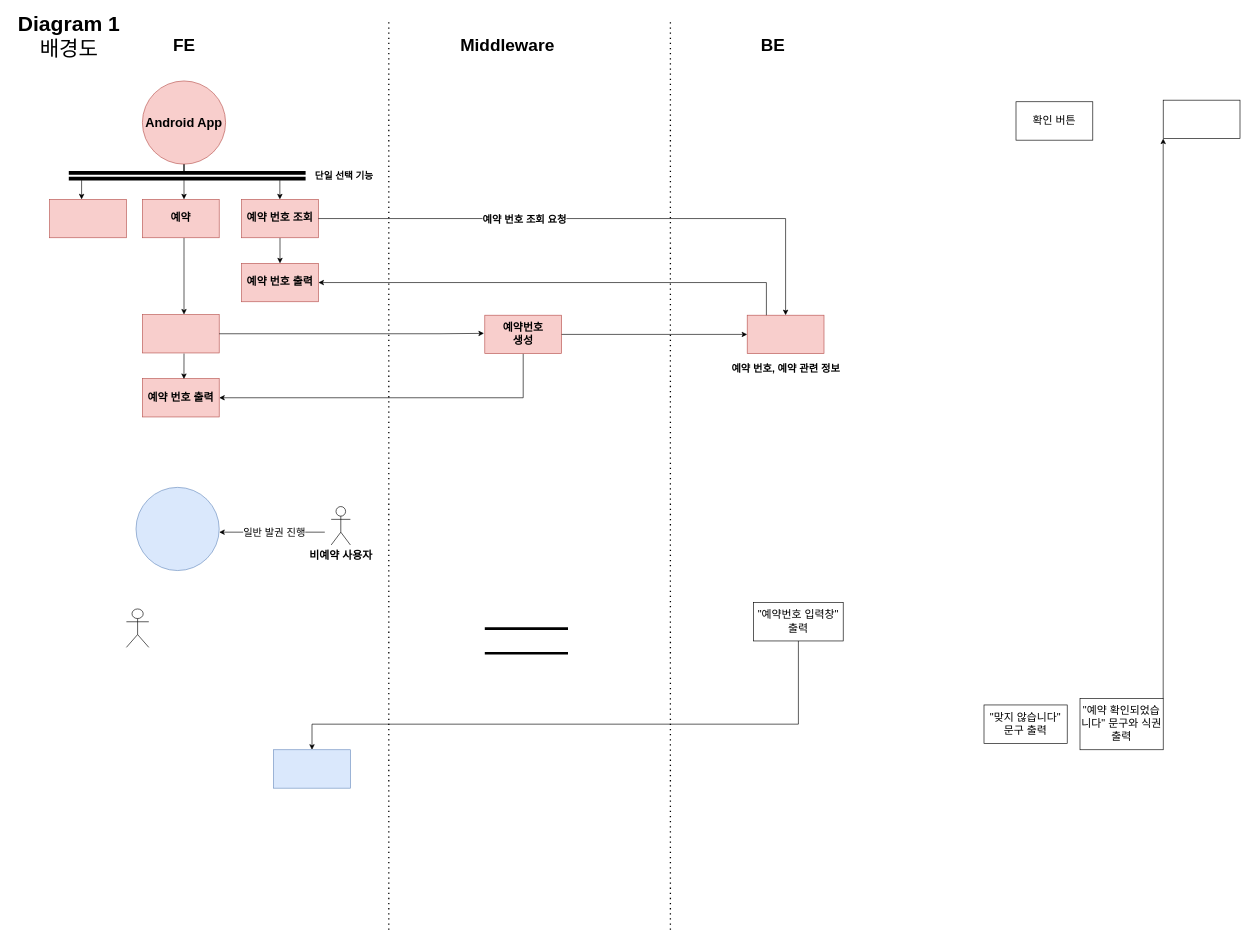
This 1251x942 diagram has some shape labels left out. The centre of each missing label's shape, as x and y in pixels:
"Kiosk" goes at pixel 177 529.
"데이터 저장" goes at pixel 785 334.
"밀집도 조회" goes at pixel 87 218.
"식권 수령" goes at pixel 1201 119.
"예약 사용자" goes at pixel 137 627.
"예약 정보 기입" goes at pixel 180 333.
